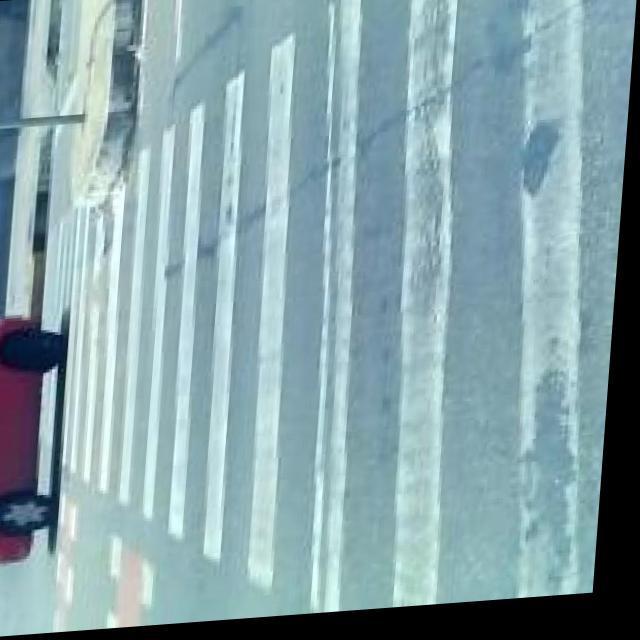zebra: (80, 127, 602, 482)
